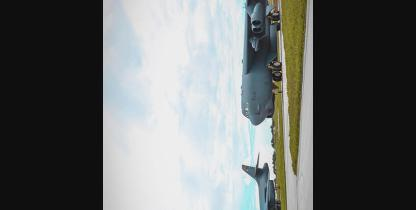AV8B: (241, 150, 283, 209)
B2: (204, 0, 285, 126)
